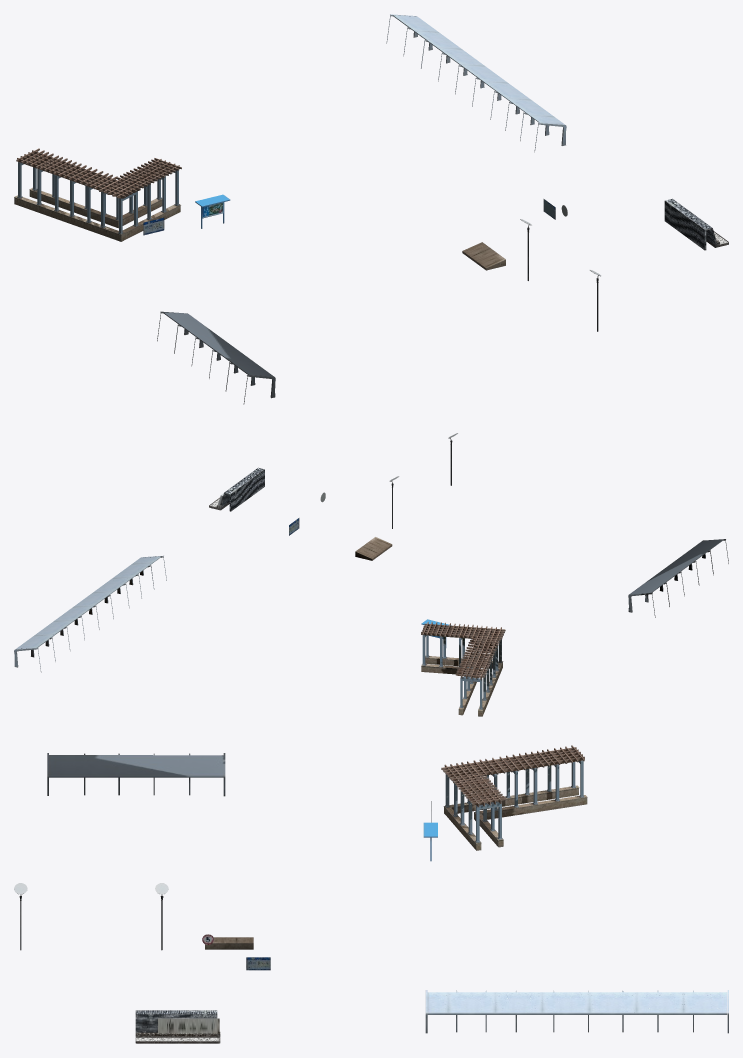
File: qitaYNSCYQ.glb
3 views of the same model, one above another, from view 1: azimuth 30°, elevation 25°; view 2: azimuth 150°, elevation 25°; view 3: azimuth 270°, elevation 25° (orthographic). The views are drawn at different scales.
Visible parts, largest first — view 1: qitaYNSCYQ; view 2: qitaYNSCYQ; view 3: qitaYNSCYQ.
Part boxes in pixels (bbox=[...]): qitaYNSCYQ: bbox=[14, 14, 728, 404]; qitaYNSCYQ: bbox=[14, 433, 728, 716]; qitaYNSCYQ: bbox=[14, 745, 728, 1043].
Bounding box in the file's own units: 5282 × 596 × 6074.
Materials: 1 (1 with a texture image).
